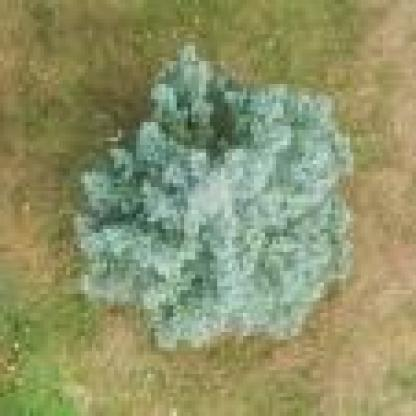Coniferous Tree: (74, 46, 361, 343)
